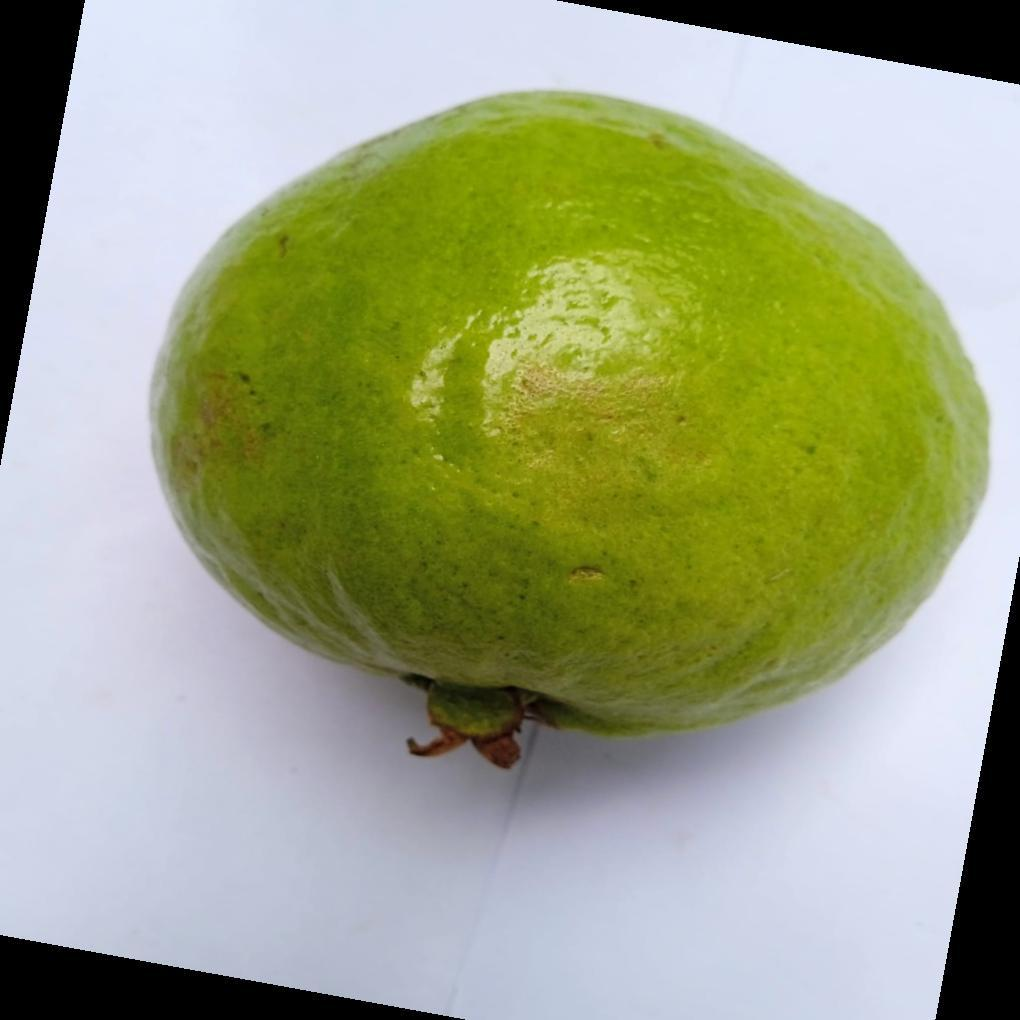FreshGuava: (146, 89, 992, 750)
